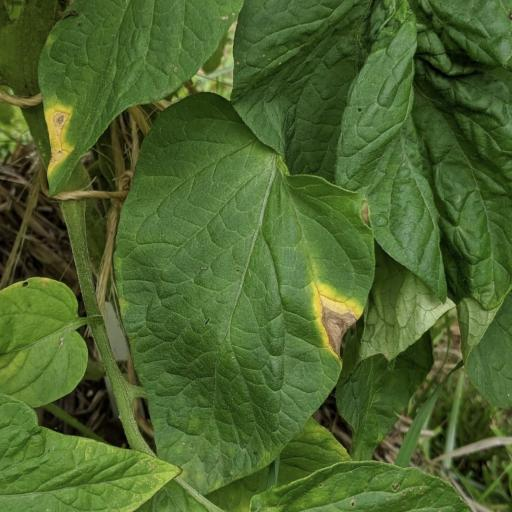disease_tomato: (111, 89, 374, 493)
